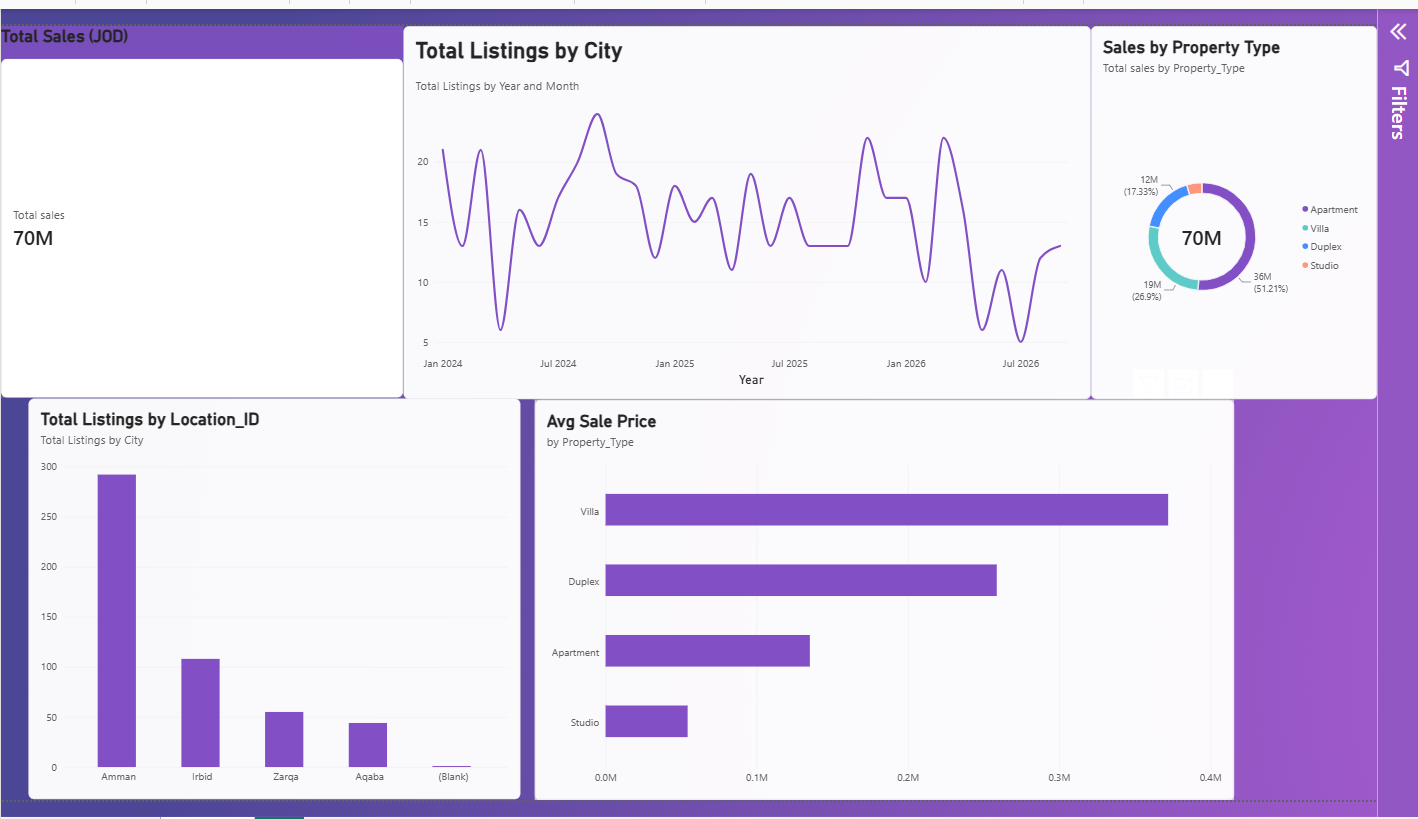

The page's visual inventory and layout, read from the dashboard file:
{"tool":"powerbi","page":{"name":"Page 1","canvas":[1920,1080],"ordinal":0},"visuals":[{"type":"cardVisual","title":"Total Sales (JOD)","fields":{"Data":["Listings.Total sales"]},"box":[0,0,561.3,519.1],"z":2},{"type":"lineChart","title":"Total Listings by City","fields":{"Category":["Listings.Listing_Date.Variation.Date Hierarchy.Year","Listings.Listing_Date.Variation.Date Hierarchy.Month"],"Y":["Listings.Total Listings"]},"box":[562,0,959.3,520.9],"z":3},{"type":"columnChart","title":"Total Listings by Location_ID","fields":{"Category":["Locations.City"],"Y":["Listings.Total Listings"]},"box":[38,520,686,559.4],"z":4},{"type":"clusteredBarChart","fields":{"Category":["Properties.Property_Type"],"Y":["Listings.Avg Sale Price"]},"box":[744.7,520.9,975.8,559.4],"z":5},{"type":"donutChart","title":"Sales by Property Type","fields":{"Category":["Properties.Property_Type"],"Y":["Listings.Total sales"]},"box":[1520.6,0,399,521],"z":6}]}

Visuals, with their boxes on the page's 1920x1080 design canvas (x1, y1, x2, y2). These are canvas units, not pixel positions in the 1418x819 screenshot, which may show the page scaled, cropped or inside an application window:
"Total Sales (JOD)" cardVisual: Rect(0, 0, 561, 519)
"Total Listings by City" lineChart: Rect(562, 0, 1521, 521)
"Total Listings by Location_ID" columnChart: Rect(38, 520, 724, 1079)
clusteredBarChart - Properties.Property_Type x Listings.Avg Sale Price: Rect(745, 521, 1720, 1080)
"Sales by Property Type" donutChart: Rect(1521, 0, 1920, 521)
